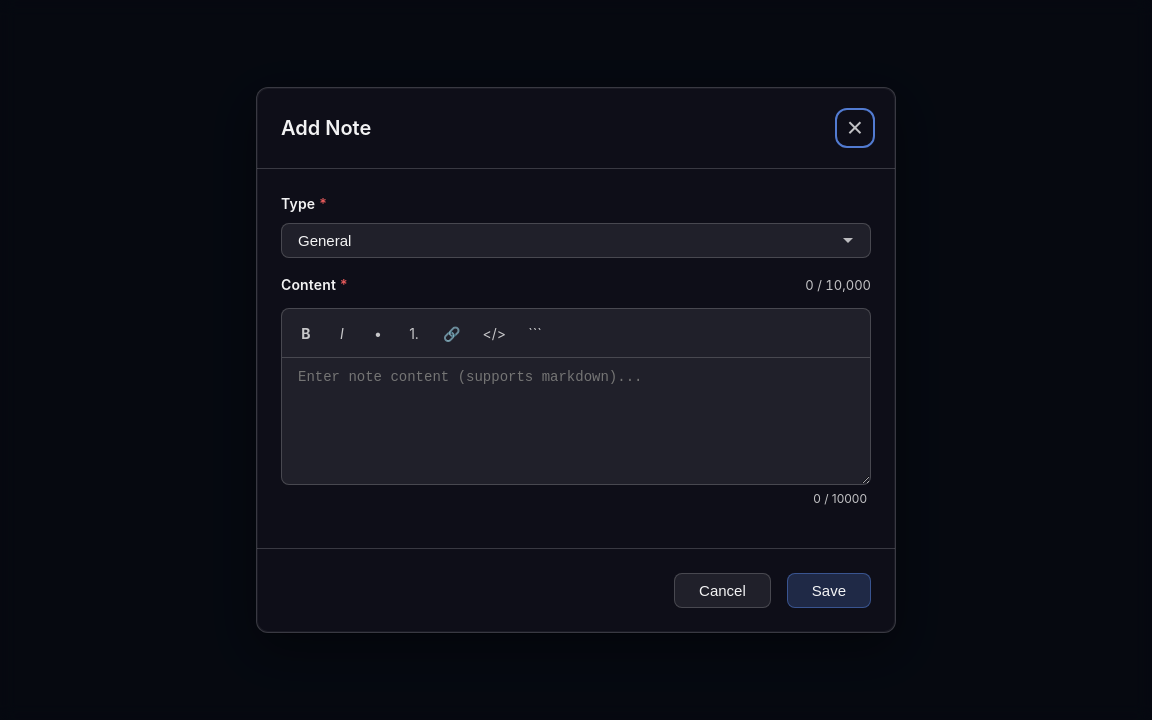
Test: NoteModal › validation › clears validation error when user types
Trigger validation error
Click the button "Save" at (829, 591), box [787,574,871,608]
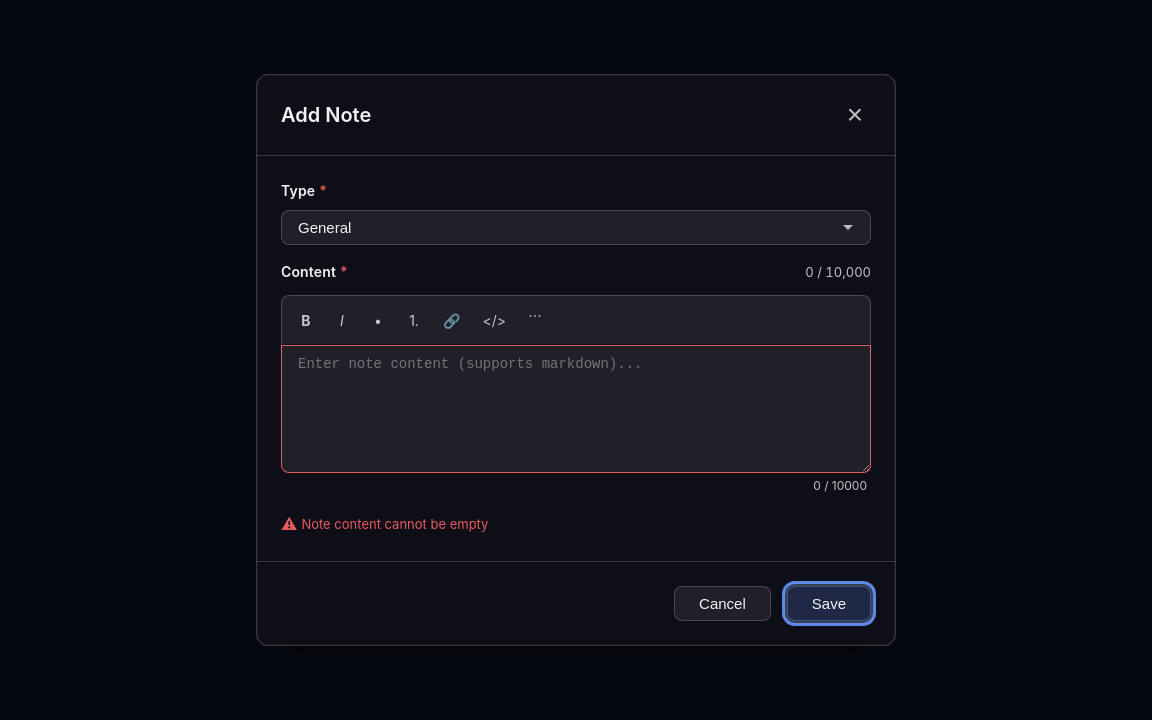
Check: the message "Note content cannot be empty" is shown, box [301,516,488,532]
Type some content
Type "Content" into the text box labelled "Content" at (576, 408), box [281,344,871,472]
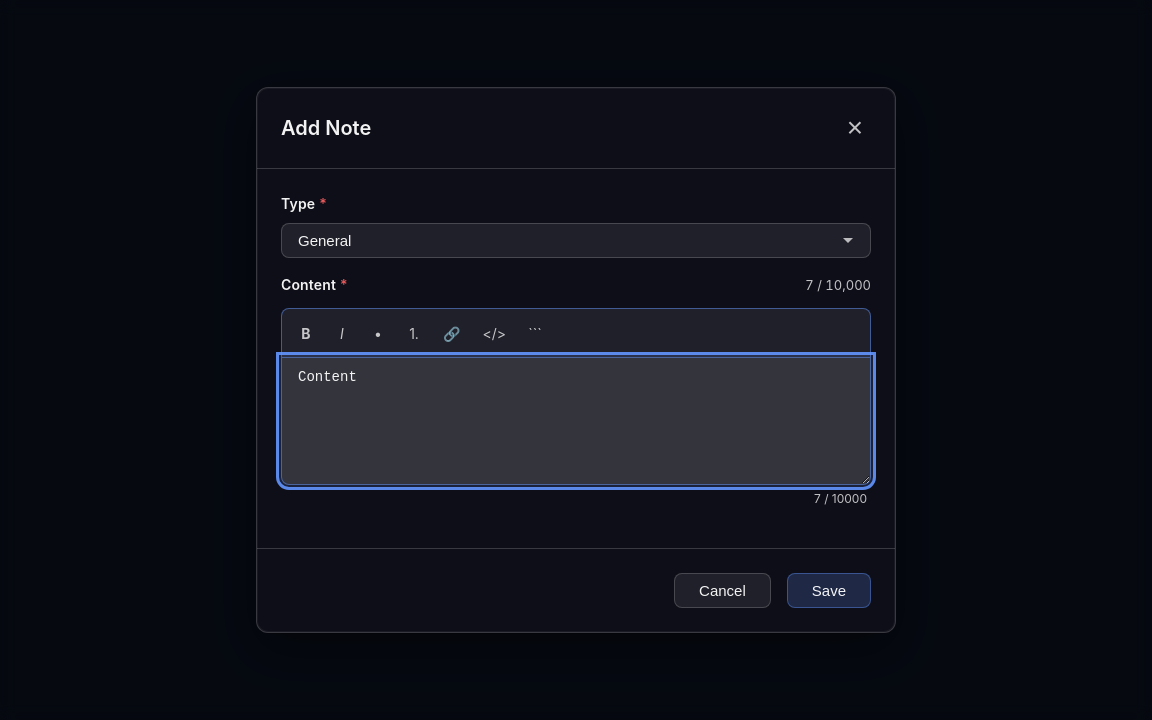
Check: the message "Note content cannot be empty" is gone
